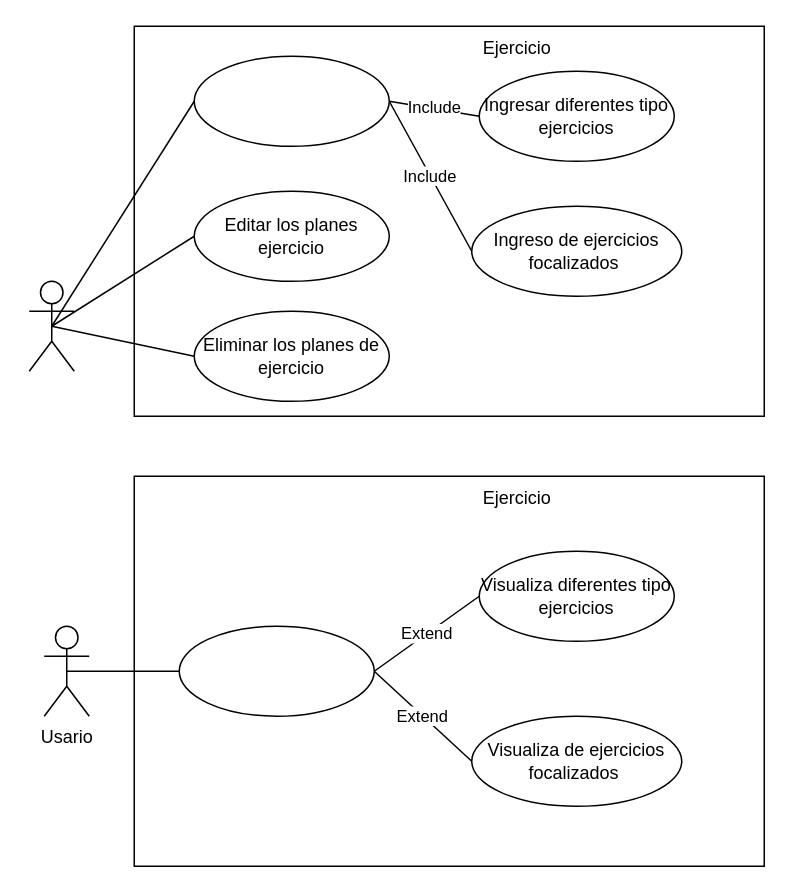
Some shapes in this 791 by 893 pixel diagram are drawn without their labels. The centre of each missing label's shape, as x and y in pixels:
"Admin" belongs at (51,325).
"Crear planes de ejercicios" belongs at (291,100).
"Ingresar a planes de ejercicios" belongs at (276,670).
